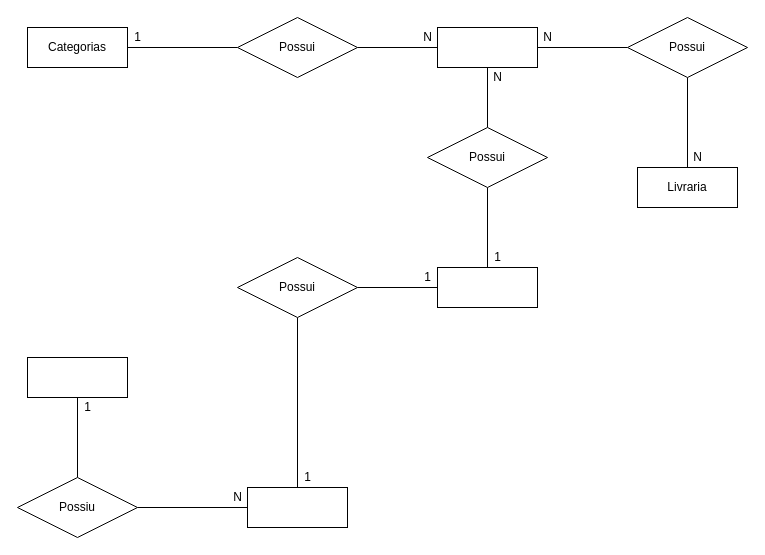
Image size: 765x555. Some labels were removed from this diagram. Each missing label, with the centre of its shape:
"Autor" belongs at point (487, 287).
"Livros" belongs at point (487, 47).
"Tipo Usuário" belongs at point (77, 377).
"Usuário" belongs at point (297, 507).
